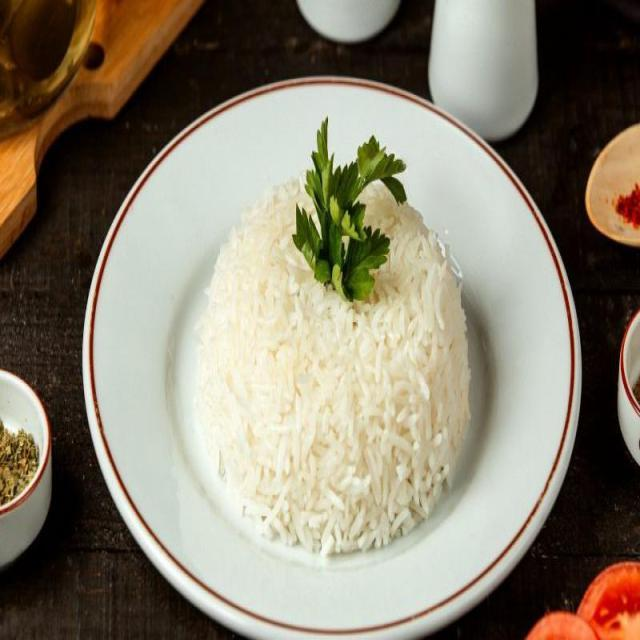nasi_putih: (197, 165, 470, 557)
